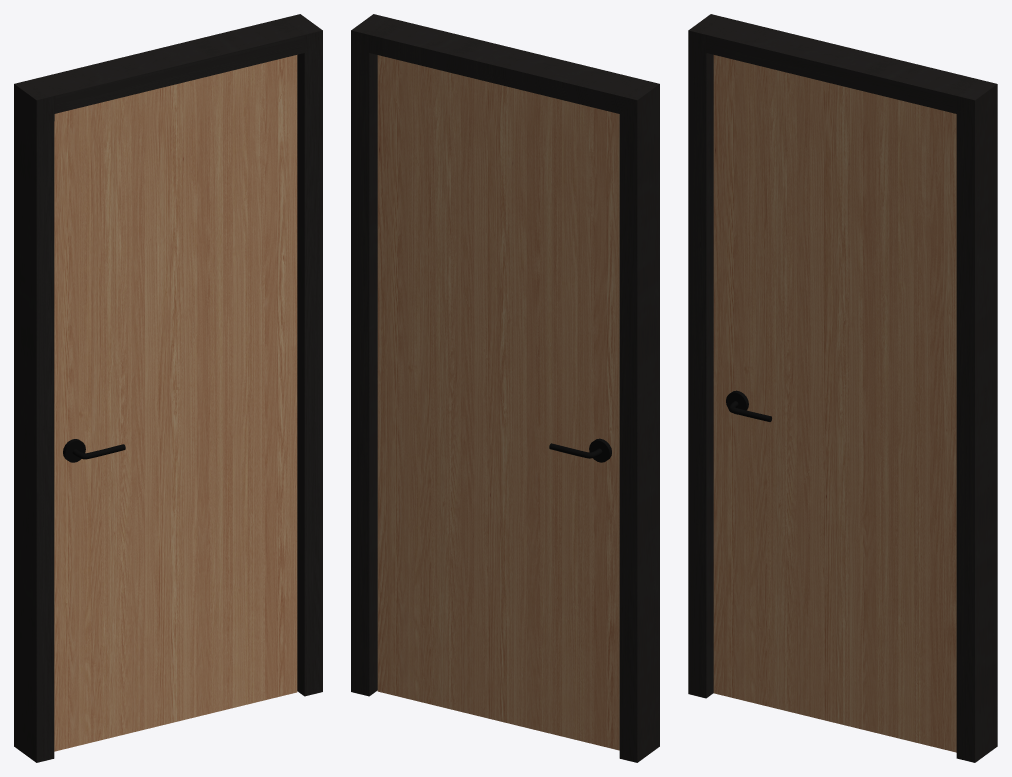
The model's file is Door 1.FBX.
3 views of the same model, side by side, from view 1: azimuth 30°, elevation 25°; view 2: azimuth 150°, elevation 25°; view 3: azimuth 330°, elevation 25° (orthographic).
Parts seen in each view (by area): view 1: Door1, door frame 1; view 2: Door1, door frame 1; view 3: Door1, door frame 1.
Boxes of the visible parts, x1,y1,x2,y2 form: Door1: [54, 55, 297, 751]; door frame 1: [14, 14, 322, 762]; Door1: [377, 55, 619, 750]; door frame 1: [351, 14, 659, 762]; Door1: [713, 55, 956, 752]; door frame 1: [688, 14, 997, 762].
Bounding box in the file's own units: 933 × 2064 × 170.
Materials: 3 (2 with a texture image).
